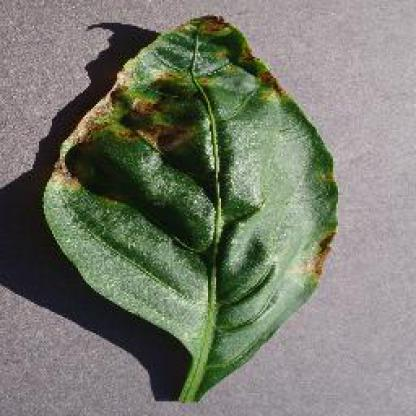bad leaf: (53, 3, 341, 394)
